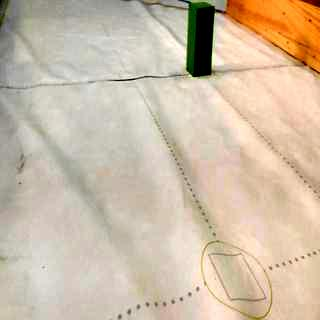greenbox: (186, 2, 217, 76)
